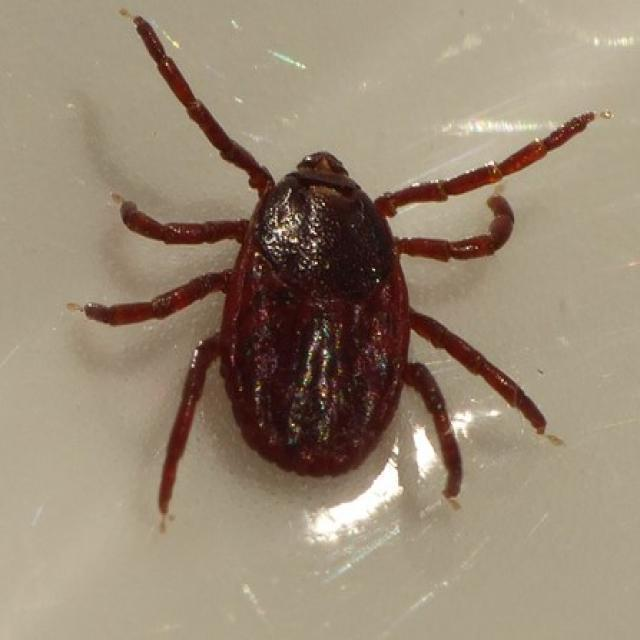Rhipicephalus Sanguineus-F: (63, 16, 596, 523)
